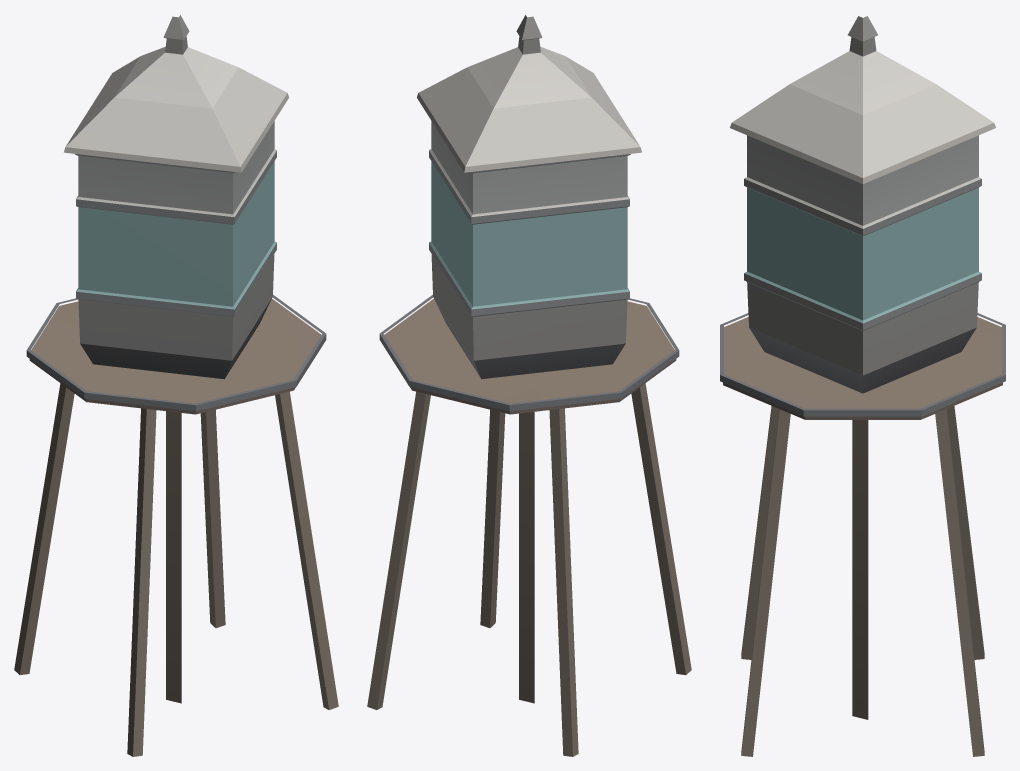
The model's file is tower.lod2.glb.
The picture shows the model from 3 angles, left to right: view 1: azimuth 30°, elevation 25°; view 2: azimuth 150°, elevation 25°; view 3: azimuth 270°, elevation 25°; orthographic projection. The views are drawn at different scales.
Size of the model in its own units: 7.4 by 20 by 7.4.
